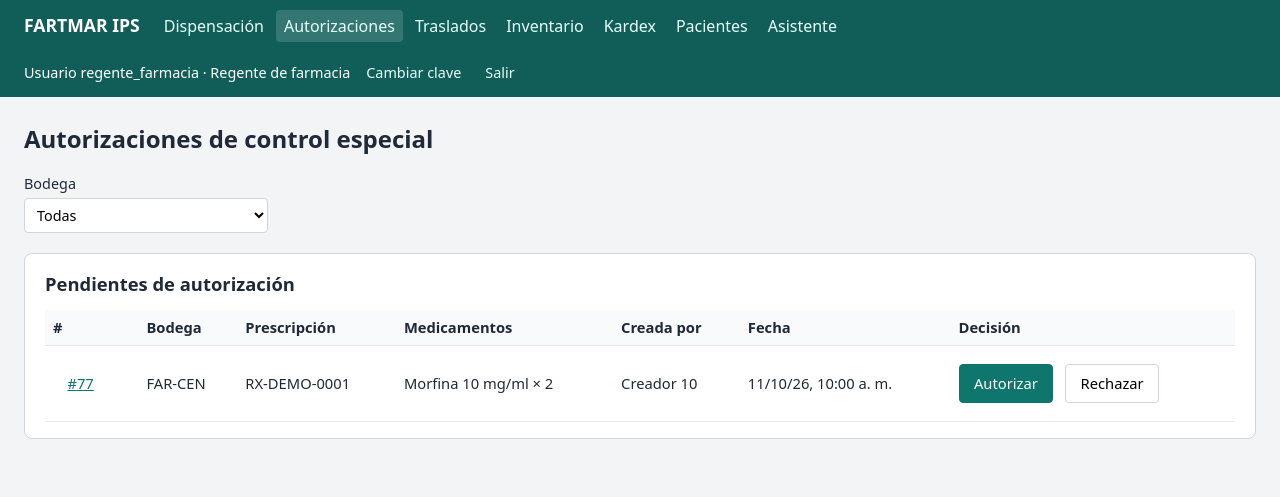
Test: Bandeja de autorizaciones › tras autorizar, la fila deja de ofrecer acciones aunque la lista aún no se haya recargado
Step 1. Click the button with aria-label "Autorizar dispensación 77" → (1006, 383), box [958,364,1053,403]
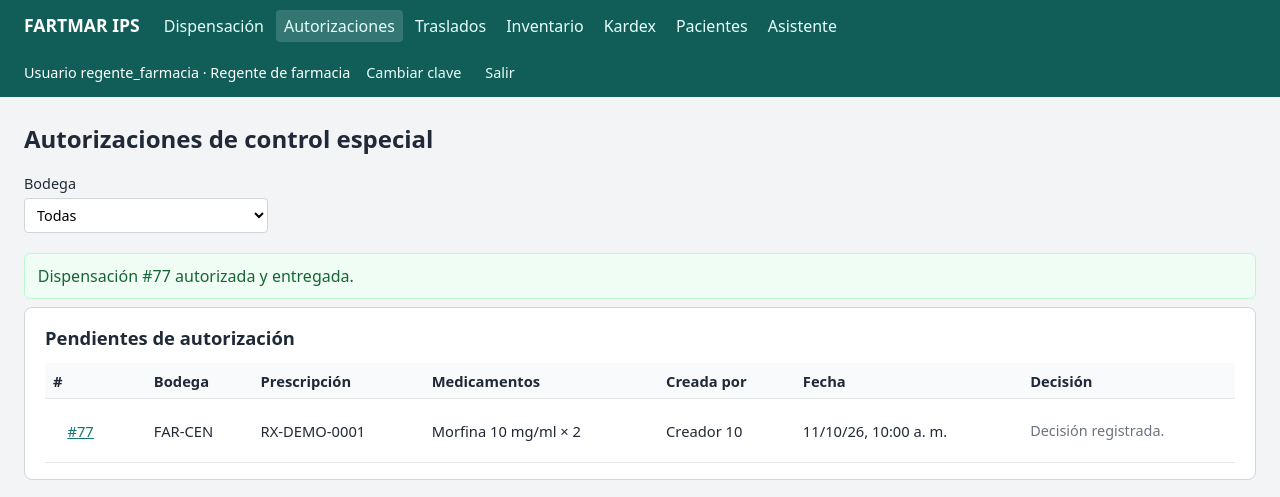
Expected: the text "Decisión registrada." is shown, [1030,421,1164,440]
